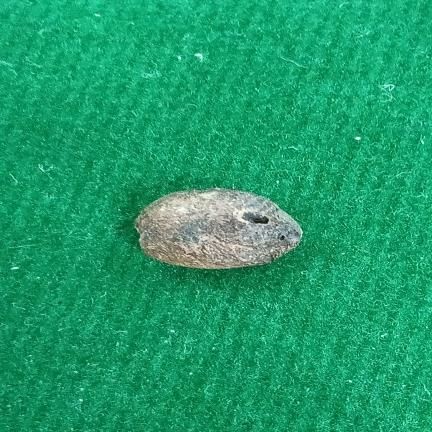partial-black: (135, 188, 302, 269)
